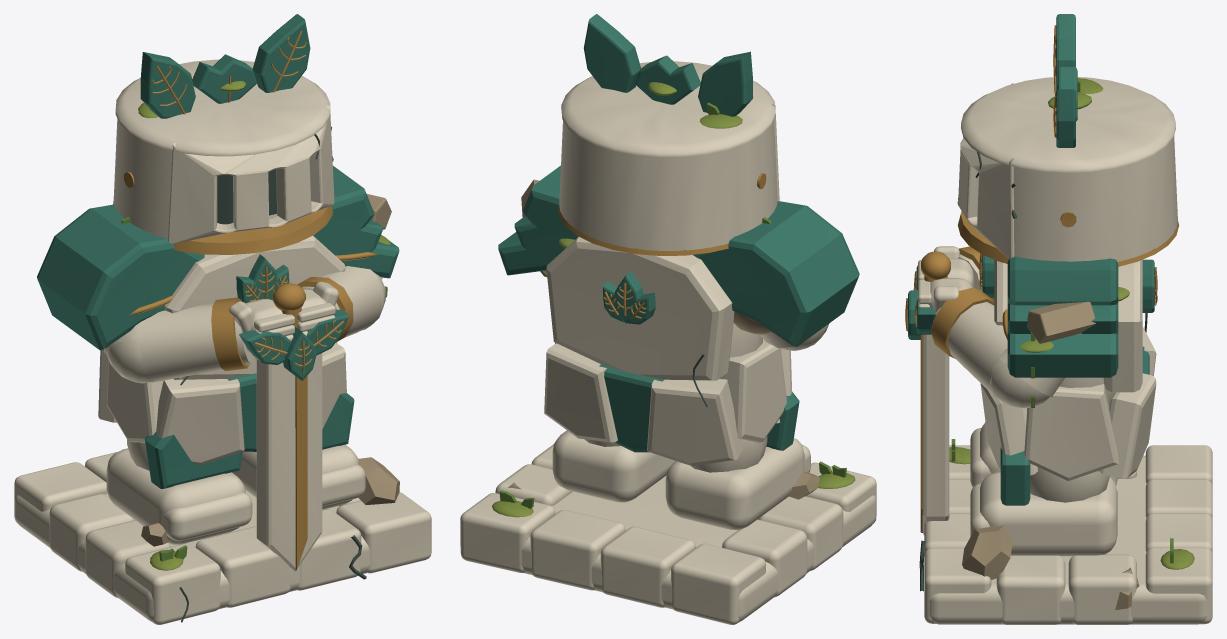
File: leaf-guardian-statue-damaged.glb
3 renders of one model, left to right at view 1: azimuth 30°, elevation 25°; view 2: azimuth 150°, elevation 25°; view 3: azimuth 270°, elevation 25°, orthographic.
Visible parts, largest first — view 1: guardian-statue-limestone (×2), guardian-statue-mineral-jade (×2), guardian-statue-carved-edges (×3), guardian-statue-fracture, guardian-statue-recesses, guardian-statue-moss; view 2: guardian-statue-limestone (×2), guardian-statue-mineral-jade (×2), guardian-statue-moss, guardian-statue-fracture, guardian-statue-carved-edges, guardian-statue-ivy; view 3: guardian-statue-limestone (×2), guardian-statue-mineral-jade (×2), guardian-statue-carved-edges (×2), guardian-statue-fracture, guardian-statue-moss.
Boxes of the visible parts, x1=… form: guardian-statue-limestone (×2): x1=14, y1=59, x2=431, y2=624; guardian-statue-mineral-jade (×2): x1=37, y1=14, x2=399, y2=488; guardian-statue-carved-edges (×3): x1=113, y1=30, x2=377, y2=570; guardian-statue-fracture: x1=141, y1=194, x2=399, y2=546; guardian-statue-recesses: x1=217, y1=169, x2=276, y2=224; guardian-statue-moss: x1=138, y1=81, x2=390, y2=570; guardian-statue-limestone (×2): x1=460, y1=61, x2=876, y2=624; guardian-statue-mineral-jade (×2): x1=498, y1=14, x2=859, y2=452; guardian-statue-moss: x1=492, y1=82, x2=855, y2=517; guardian-statue-fracture: x1=499, y1=179, x2=819, y2=499; guardian-statue-carved-edges: x1=558, y1=173, x2=766, y2=255; guardian-statue-ivy: x1=499, y1=102, x2=846, y2=508; guardian-statue-limestone (×2): x1=918, y1=77, x2=1212, y2=624; guardian-statue-mineral-jade (×2): x1=908, y1=14, x2=1154, y2=505; guardian-statue-carved-edges (×2): x1=905, y1=211, x2=1179, y2=532; guardian-statue-fracture: x1=962, y1=301, x2=1139, y2=610; guardian-statue-moss: x1=949, y1=78, x2=1194, y2=569.
Size of the model in its own units: 2.38 by 3.6 by 1.97.
